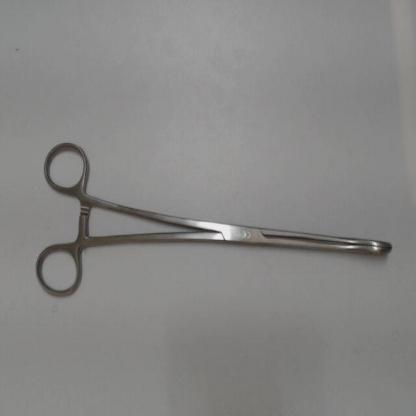Sponge Forceps: (30, 134, 403, 304)
